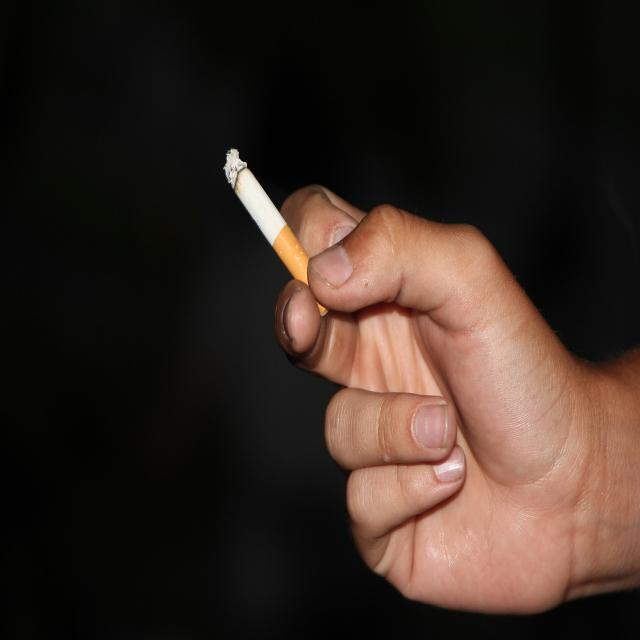rokok: (222, 143, 350, 313)
